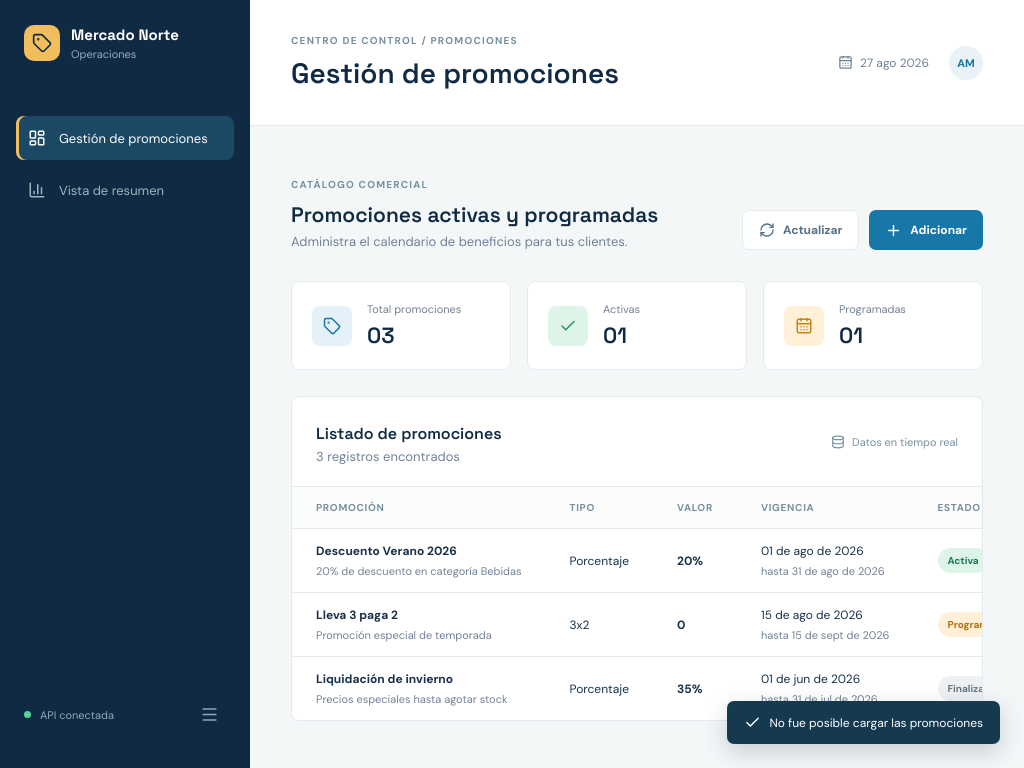
Scenario: App › navigates to the summary view and collapses the menu
The width and height of the screenshot is (1024, 768).
Click the button "Vista de resumen".
click(125, 190)  # box [16, 168, 234, 212]
(page scrolled)
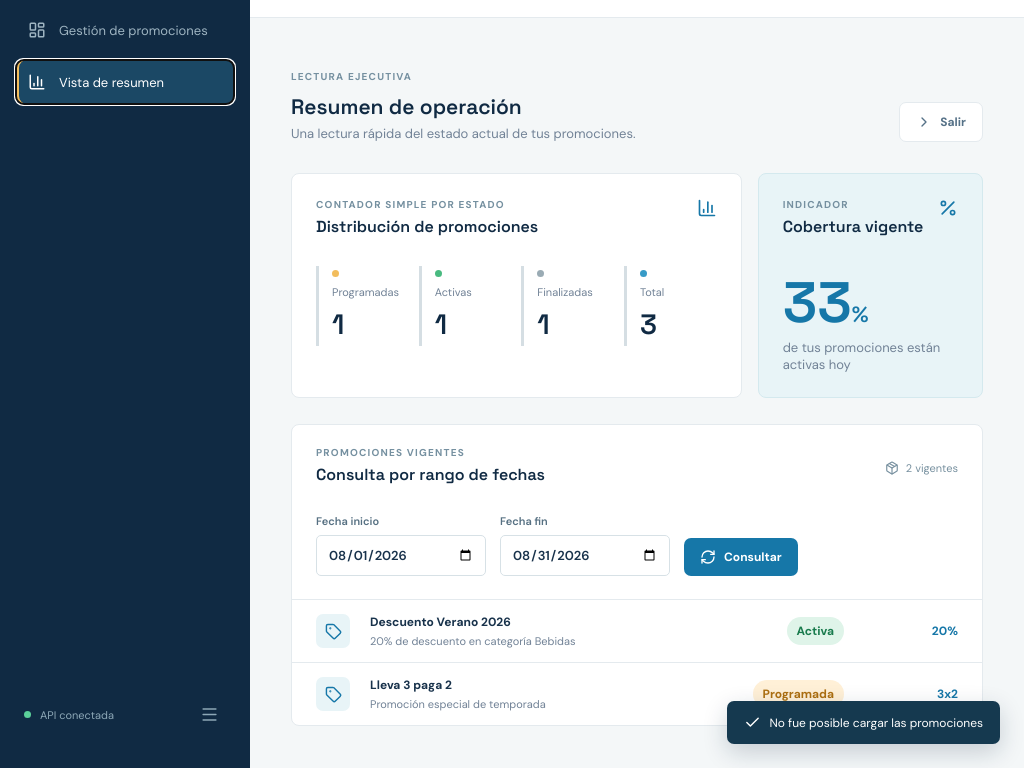
Click the button named "Contraer menú".
click(210, 714)  # box [193, 698, 226, 731]
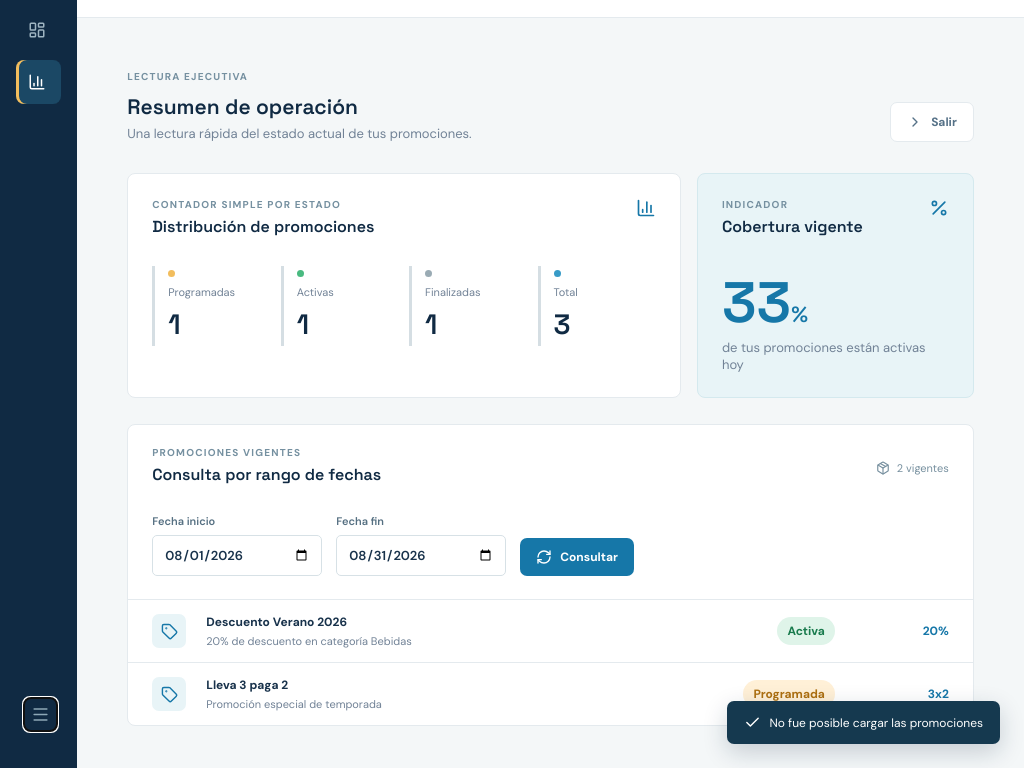
Result: the button "Gestión de promociones" is gone
